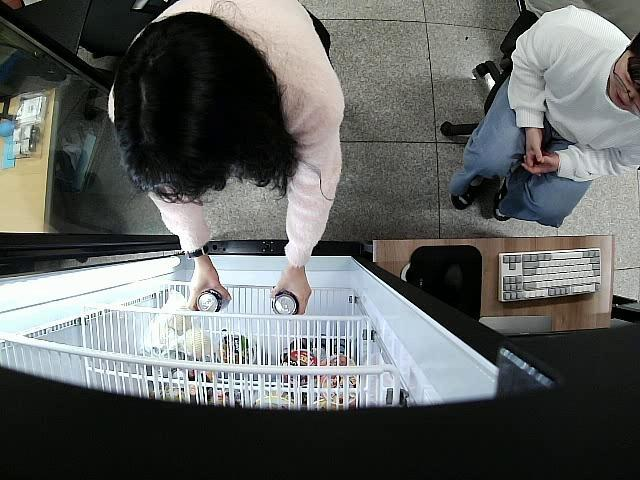14_welchsGrape: (272, 290, 300, 316), (196, 290, 229, 310)
